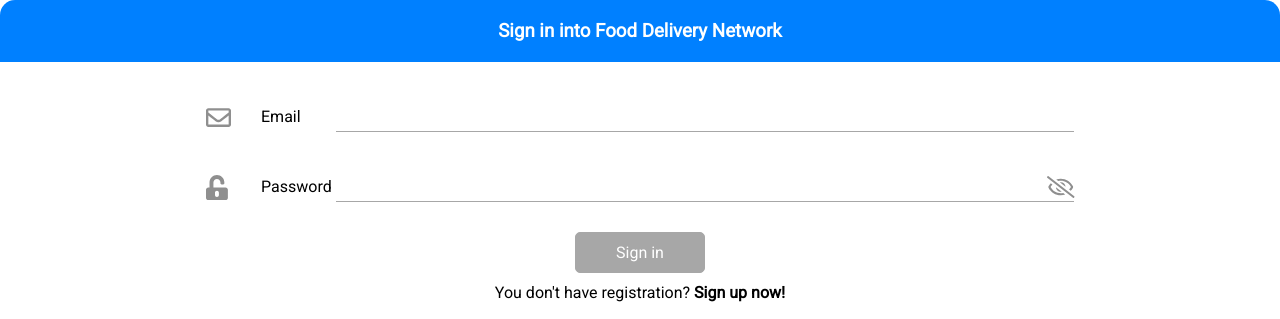
Login modal › button should be enabled
The width and height of the screenshot is (1280, 319).
Step 1. Type "pesho@abv.bg" into the field with test id "email" → (705, 117), box [336, 102, 1074, 132]
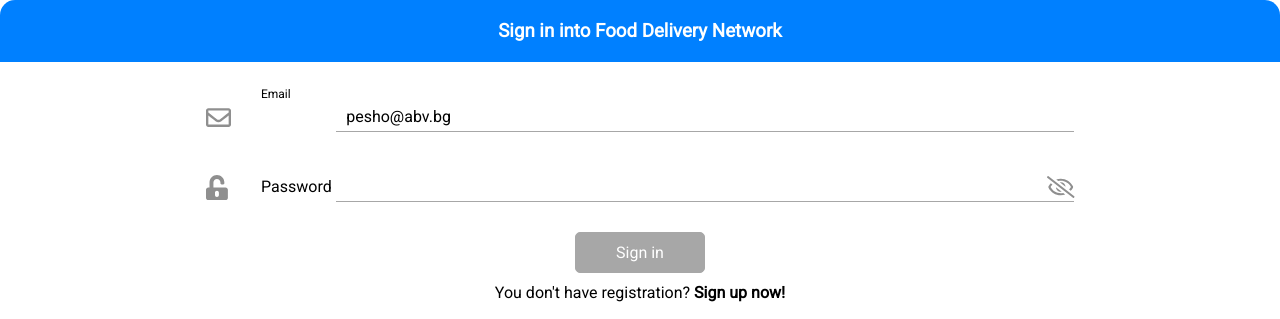
Step 2. Type "123123" into the password field with test id "password" → (705, 187), box [336, 172, 1074, 202]
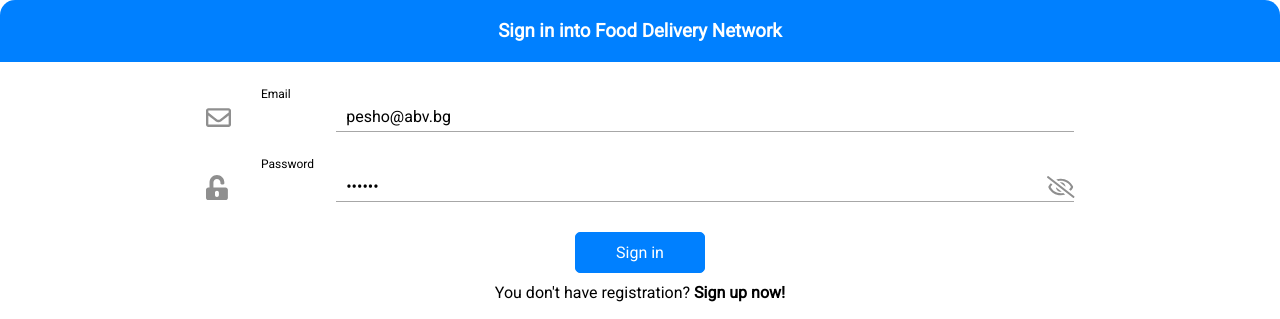
Expected: the button "Sign in" is enabled, [575, 232, 705, 273]
